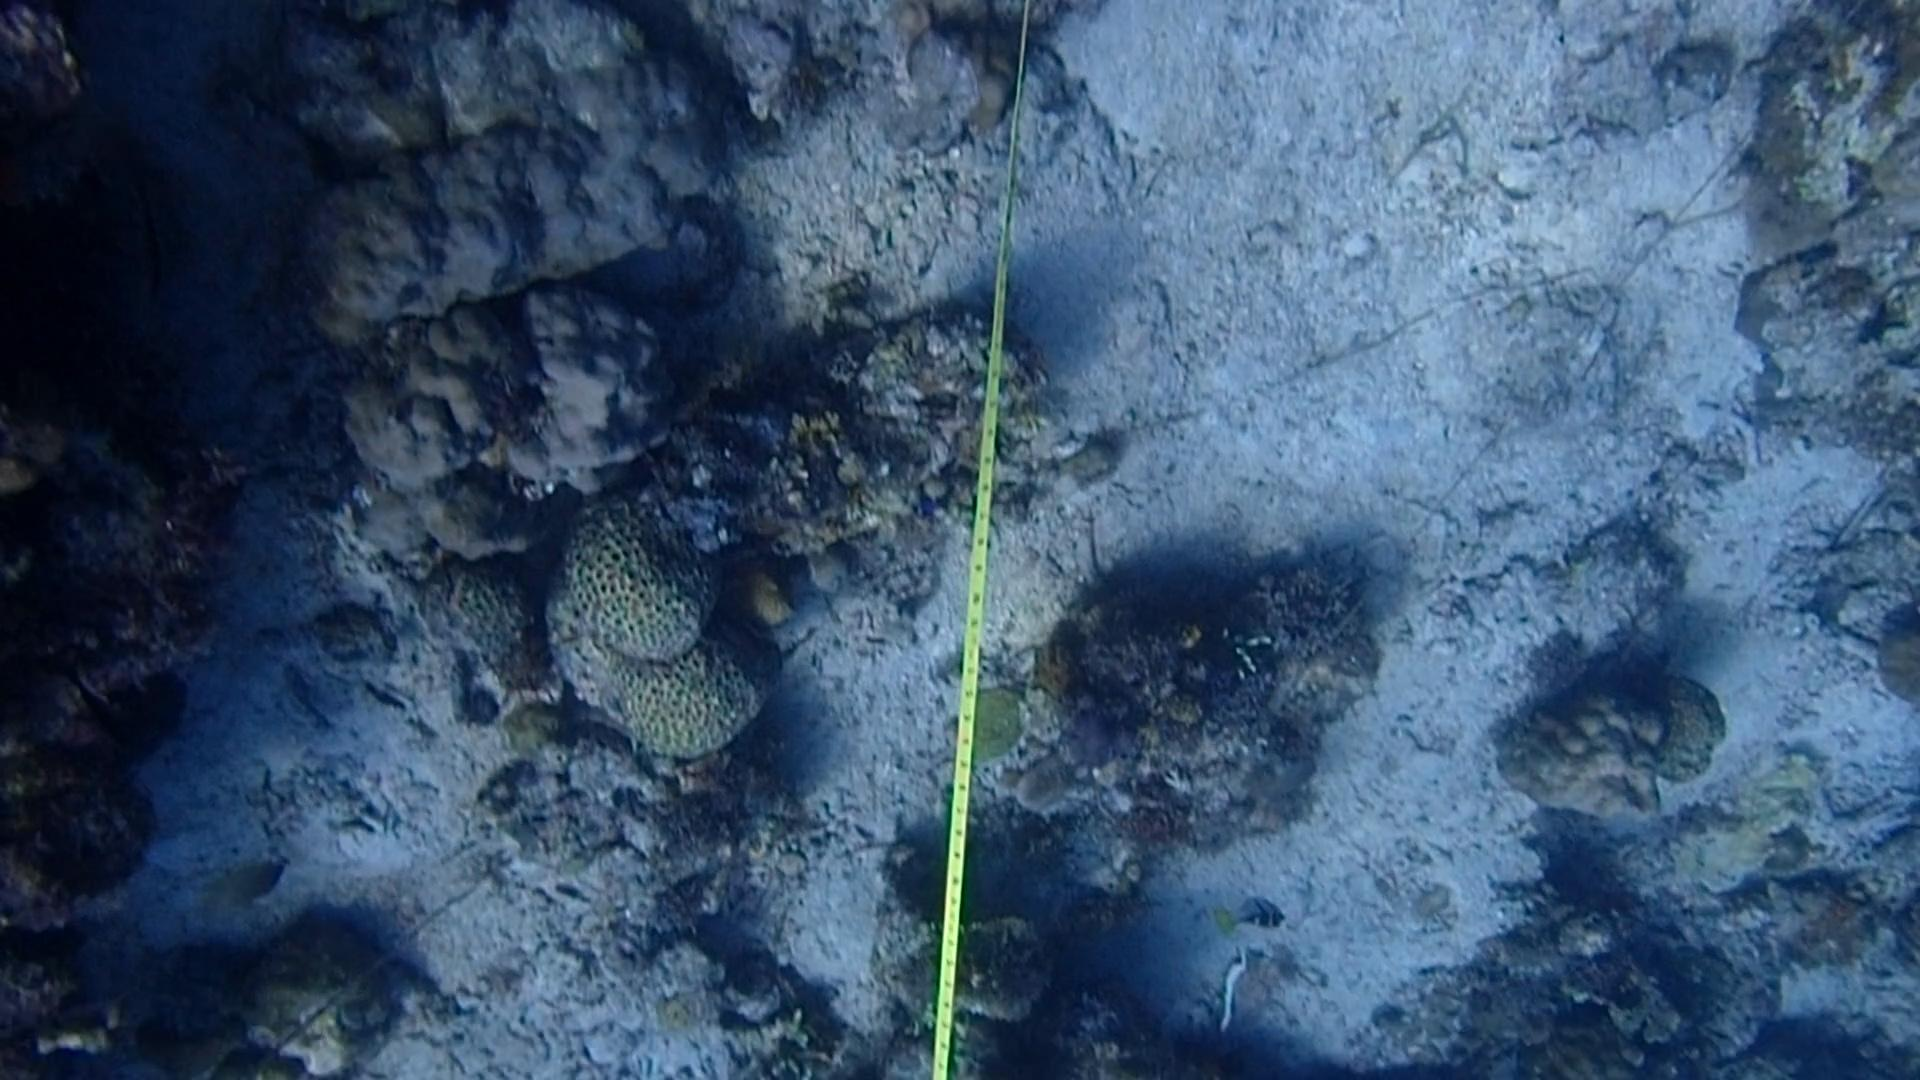Striped Fish: (1208, 887, 1291, 938)
